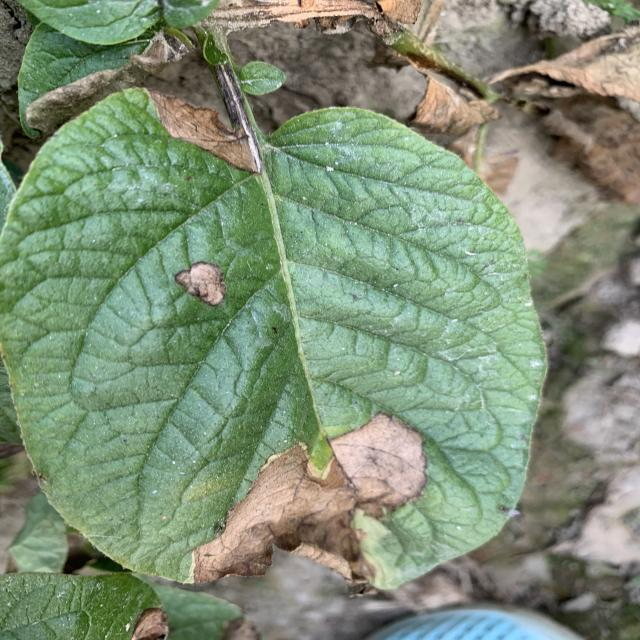lateblight: (192, 412, 427, 582), (330, 412, 427, 508), (148, 90, 258, 172), (175, 261, 227, 306)
